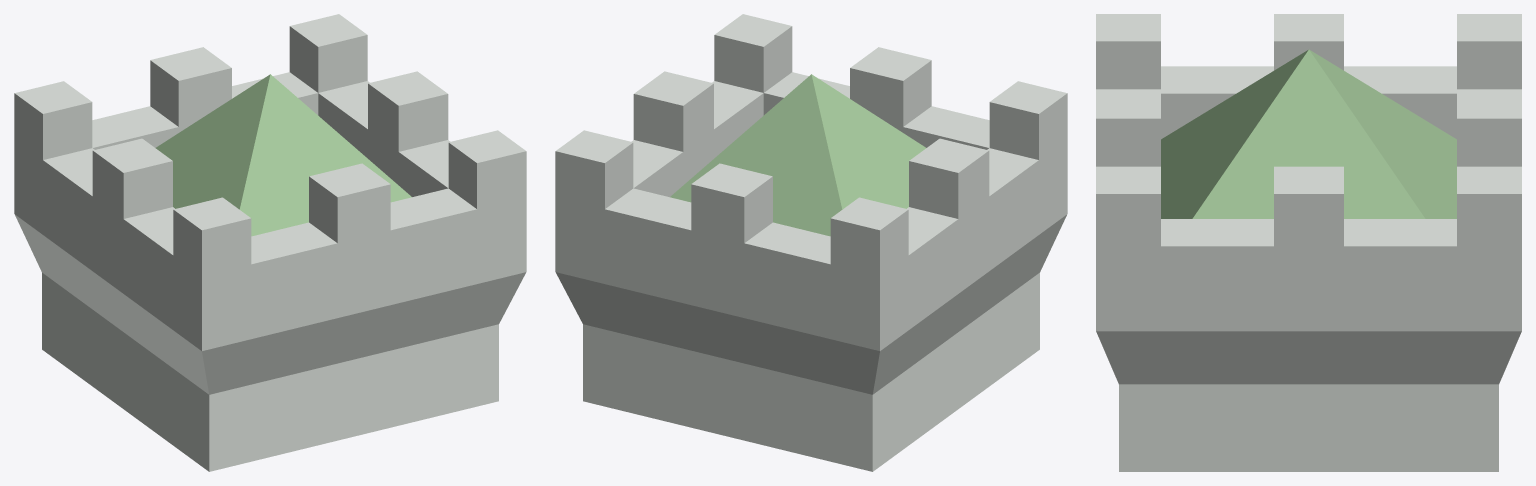
The model's file is tower-defense-classic--tile-028.glb.
The picture shows the model from 3 angles, left to right: view 1: azimuth 30°, elevation 25°; view 2: azimuth 150°, elevation 25°; view 3: azimuth 270°, elevation 25°; orthographic projection. The views are drawn at different scales.
Parts seen in each view (by area): view 1: tile_028, Group; view 2: tile_028, Group; view 3: tile_028, Group.
Part boxes in pixels (left/top/right/bottom): tile_028: left=14, top=14, right=526, bottom=471; Group: left=155, top=74, right=411, bottom=236; tile_028: left=555, top=14, right=1067, bottom=471; Group: left=670, top=74, right=926, bottom=236; tile_028: left=1096, top=14, right=1521, bottom=471; Group: left=1161, top=49, right=1456, bottom=218.
Size of the model in its own units: 0.6609 by 0.586 by 0.6609.
